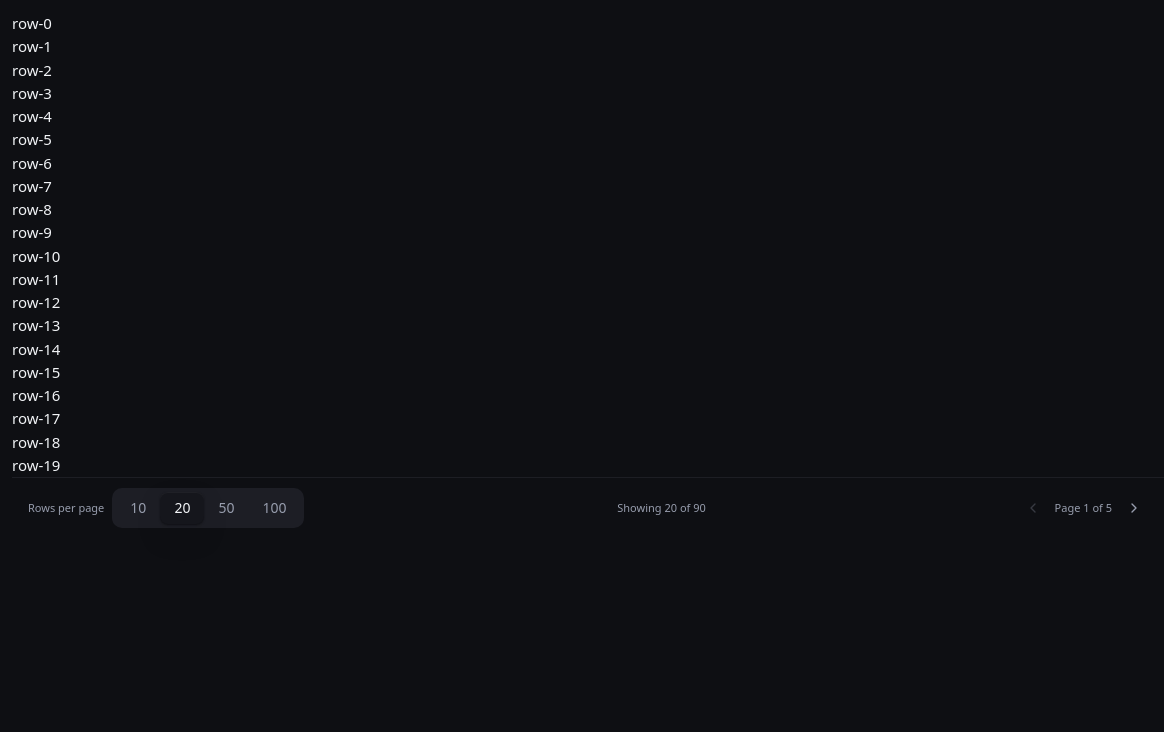
it: usePager cuts the list the reader is actually shown › walks to the next page without reshuffling the order
Click the button named "Next page" at (1134, 508), box 1120,494 -> 1148,522
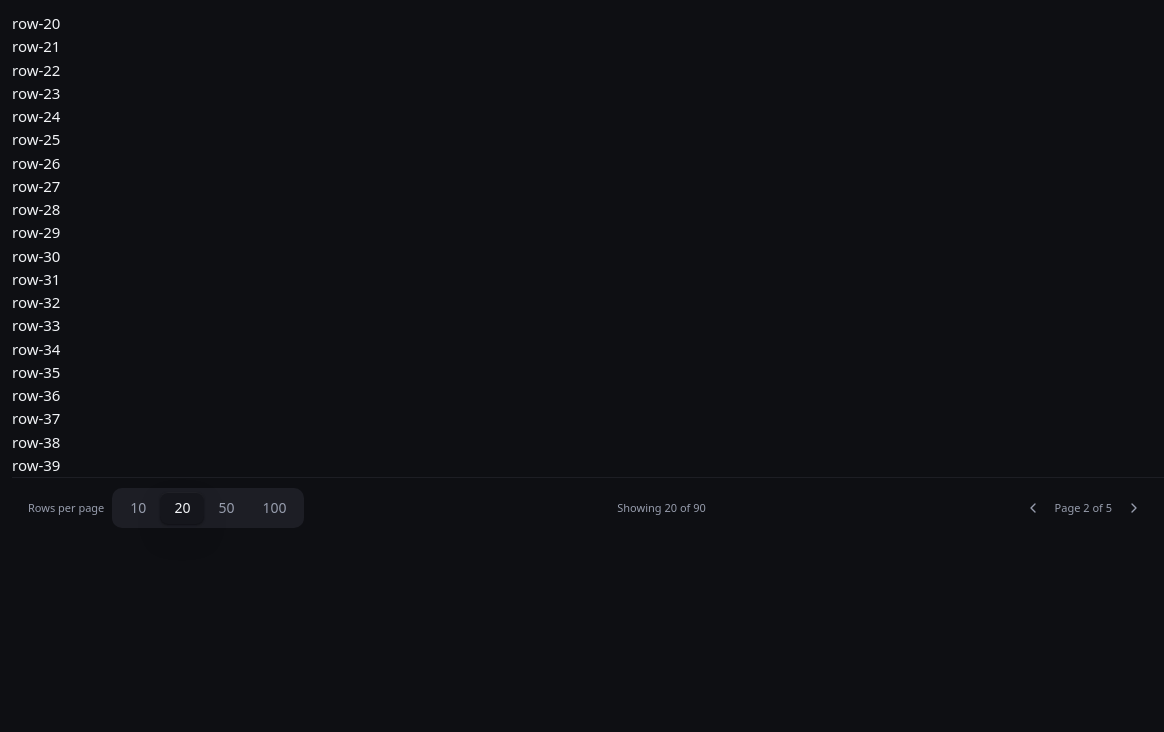
Result: the list item with test id "row" reads "row-20" at 12,13 -> 60,33
Result: the list item with test id "row" reads "row-39" at 12,455 -> 60,475
